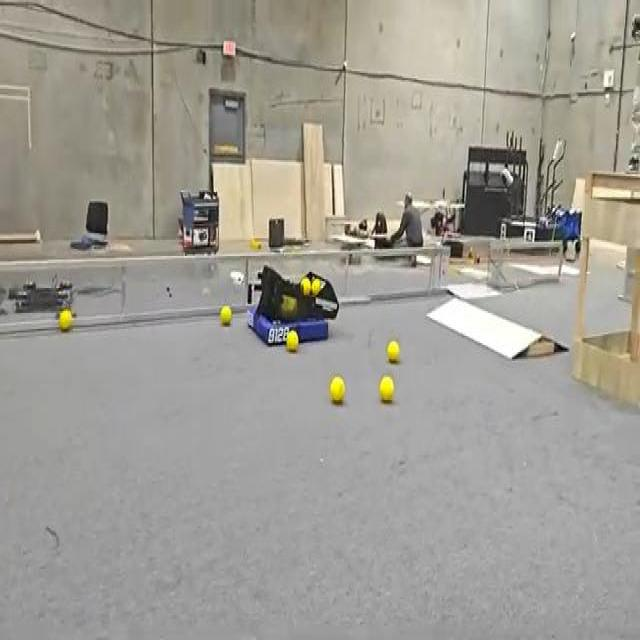Fuel: (379, 375, 394, 402), (330, 376, 345, 403), (329, 377, 345, 402), (379, 376, 394, 402), (58, 309, 73, 331), (58, 310, 72, 331), (386, 340, 399, 362), (387, 340, 399, 362), (286, 330, 298, 352), (220, 306, 232, 326), (286, 331, 298, 350), (220, 306, 231, 325), (300, 277, 311, 295), (311, 279, 323, 295), (311, 279, 322, 296), (301, 278, 311, 296)
